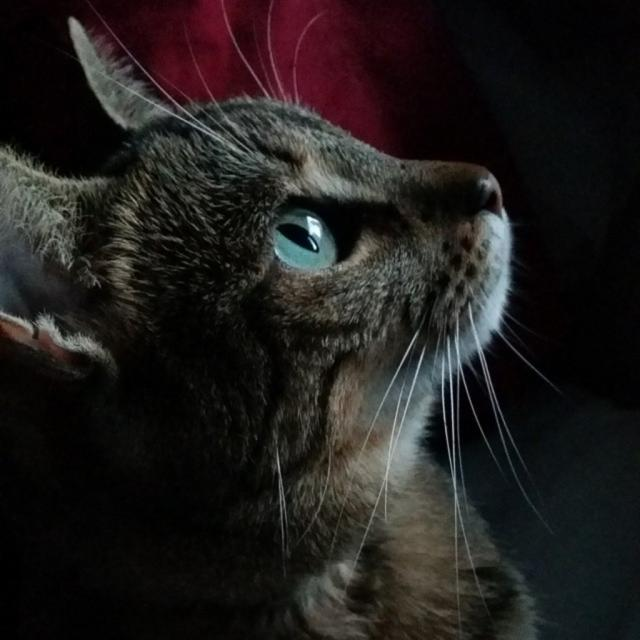Cat: (1, 0, 566, 638)
